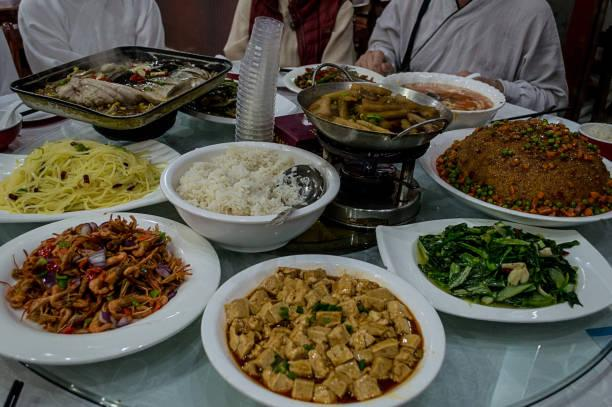Braised Crucian Carp: (199, 254, 442, 405), (1, 212, 220, 364), (377, 216, 611, 324), (295, 69, 443, 221), (8, 45, 231, 143), (161, 140, 334, 252), (419, 126, 608, 225), (2, 136, 181, 222), (1, 90, 64, 123)
